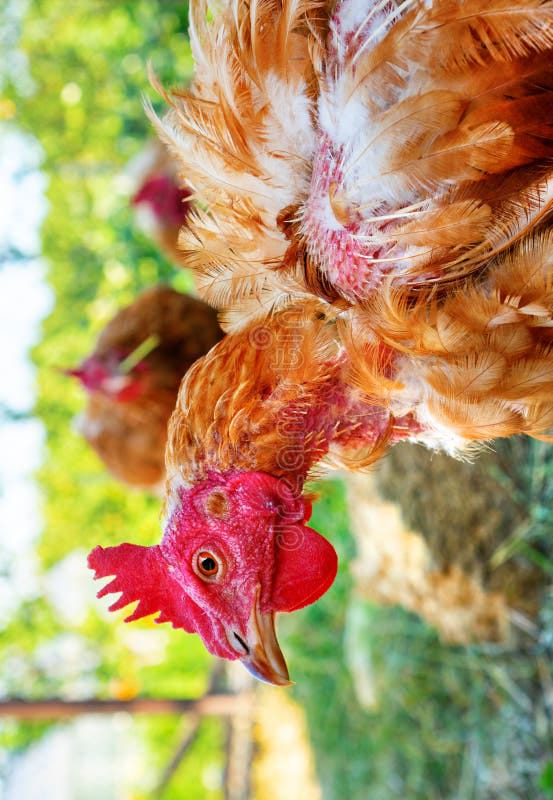Unhealthy: (86, 5, 534, 708)
